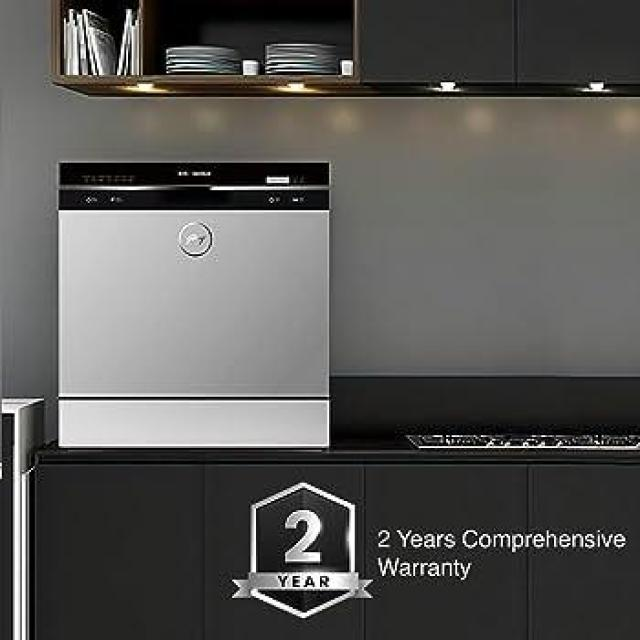dishwasher: (51, 158, 344, 497)
